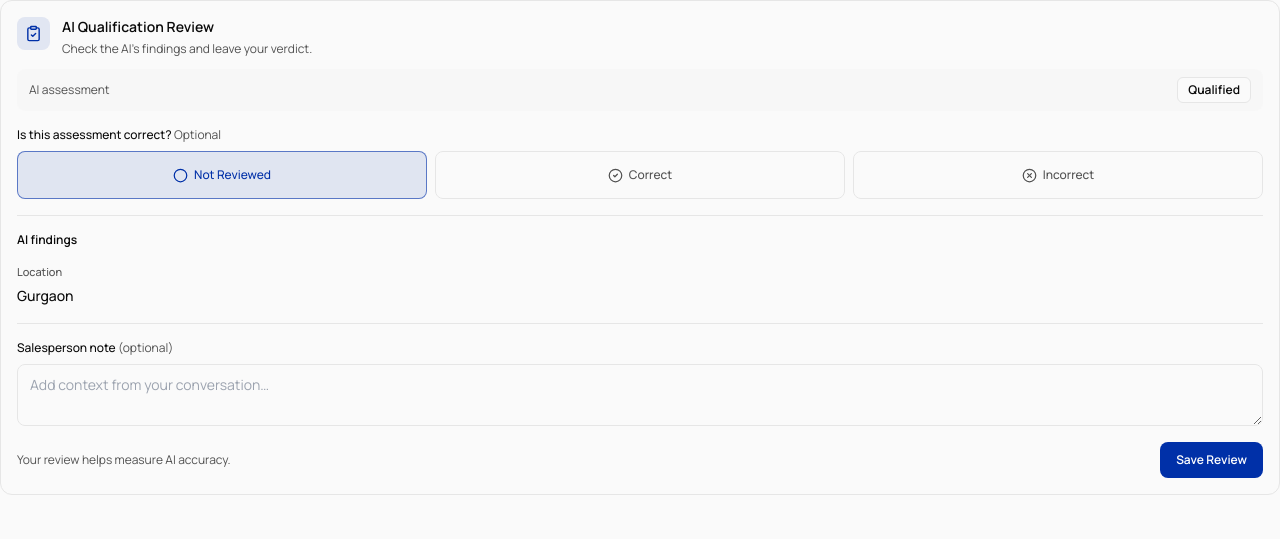
Test: normal lead polling does not erase an unsaved review
This screenshot has width=1280, height=539.
Step 1. Click the radio button labelled "Incorrect" → (1058, 175), box [853,151,1263,199]
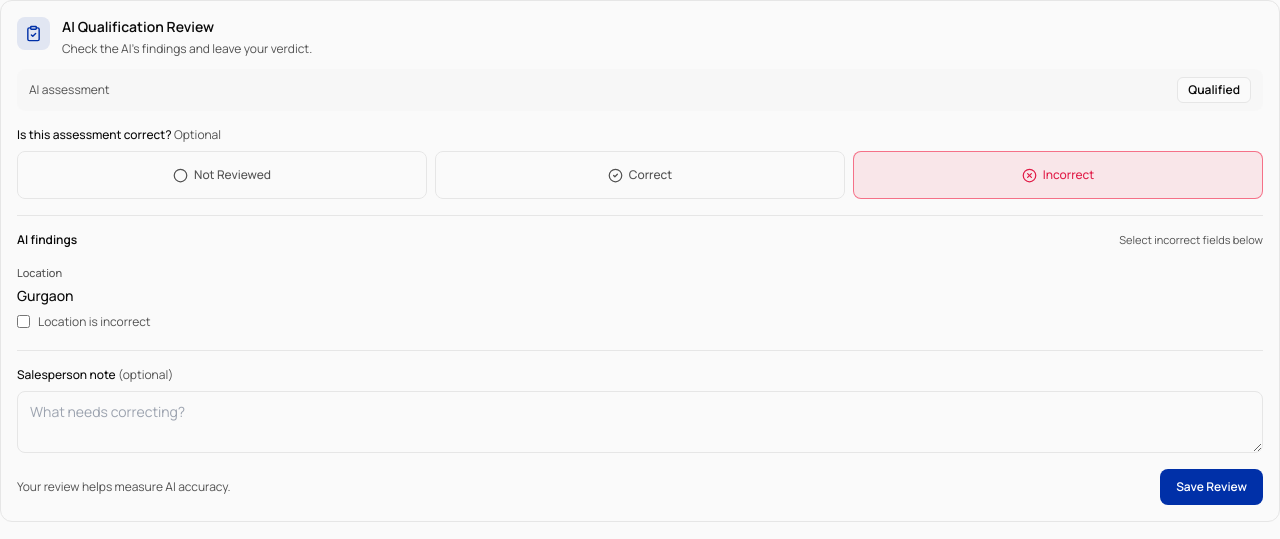
Now the radio button labelled "Incorrect" is checked, box [853,151,1263,199]
